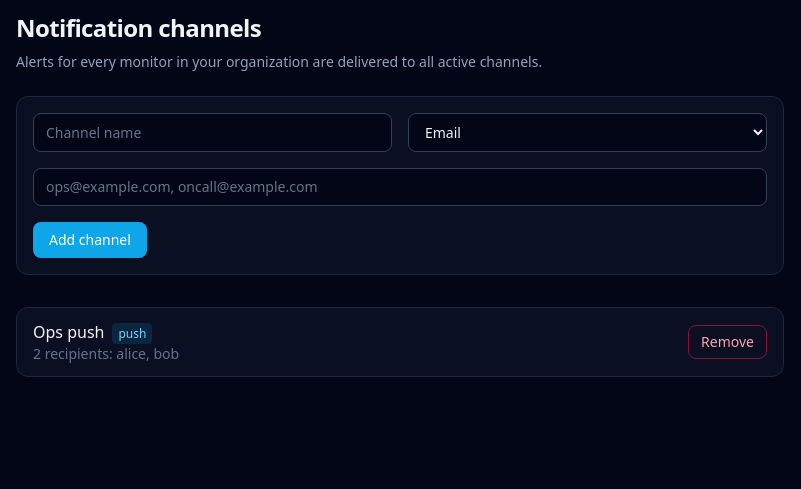
Test: ChannelsPage push channels › shows org members to pick when the push type is selected
Select "Push notification" in the dropdown at [588, 132], box [408,113,767,152]
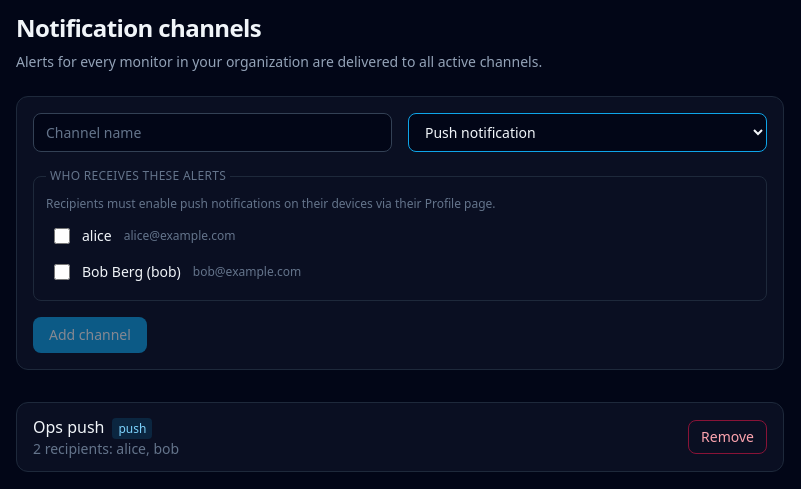
Check: the text "bob@example.com" is shown, box [193,264,301,280]
Check: the text "alice@example.com" is shown, box [124,228,236,244]
